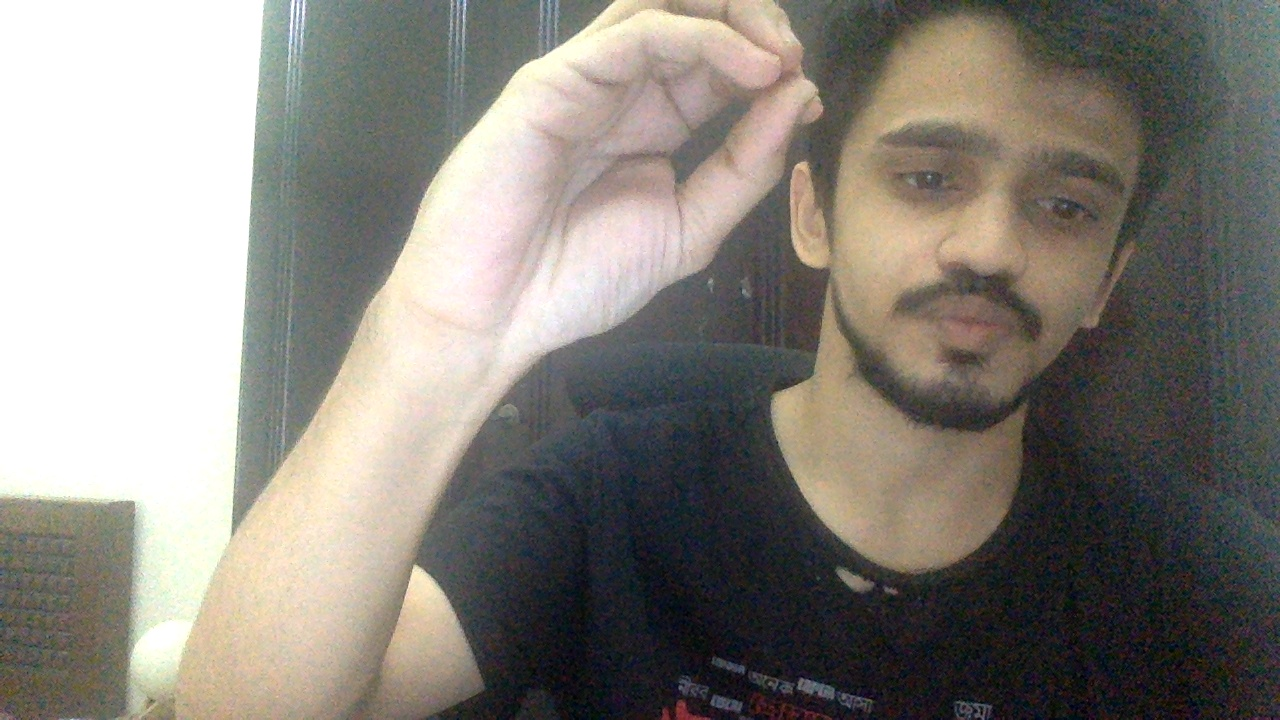zero: (386, 2, 825, 347)
